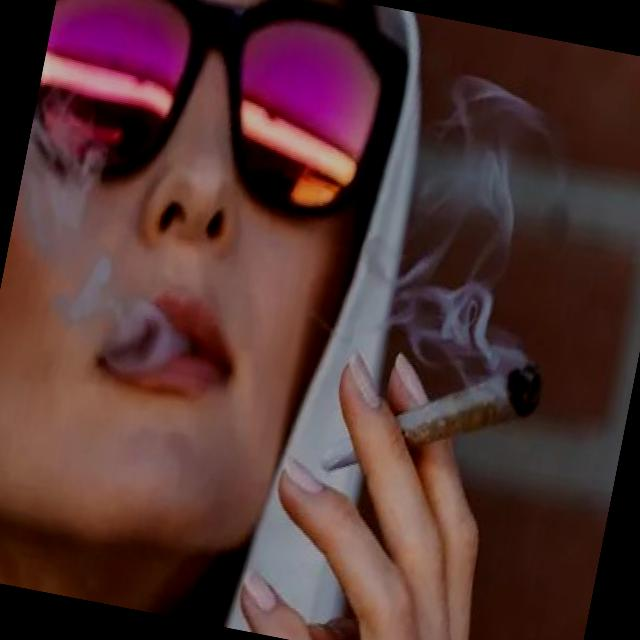smoke: (312, 322, 547, 519)
